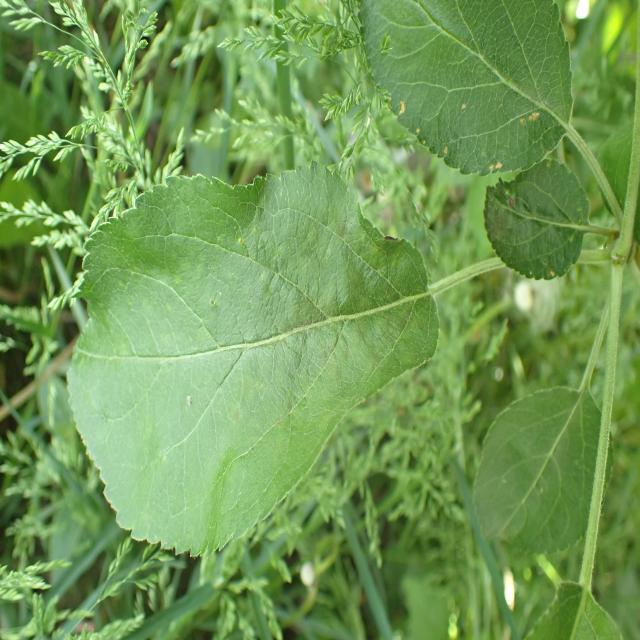scab: (114, 197, 446, 469)
